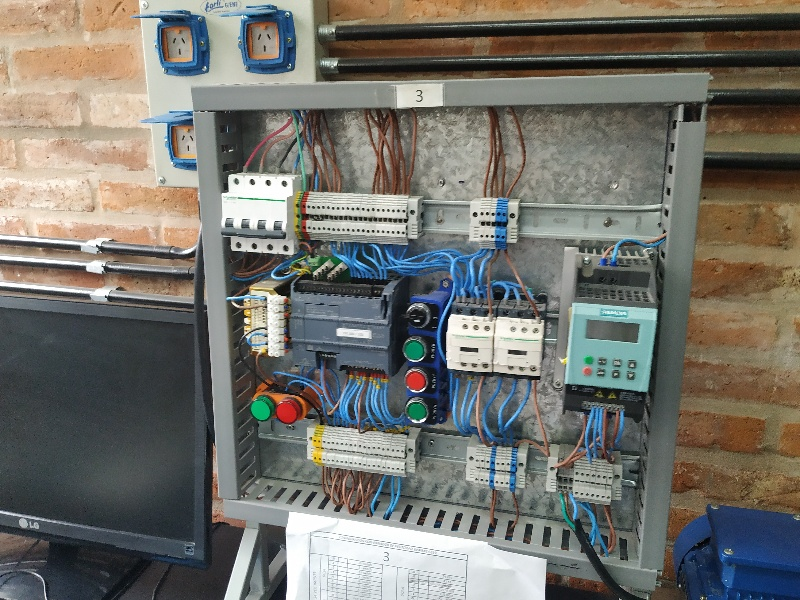Tablero 3: (205, 98, 661, 559)
